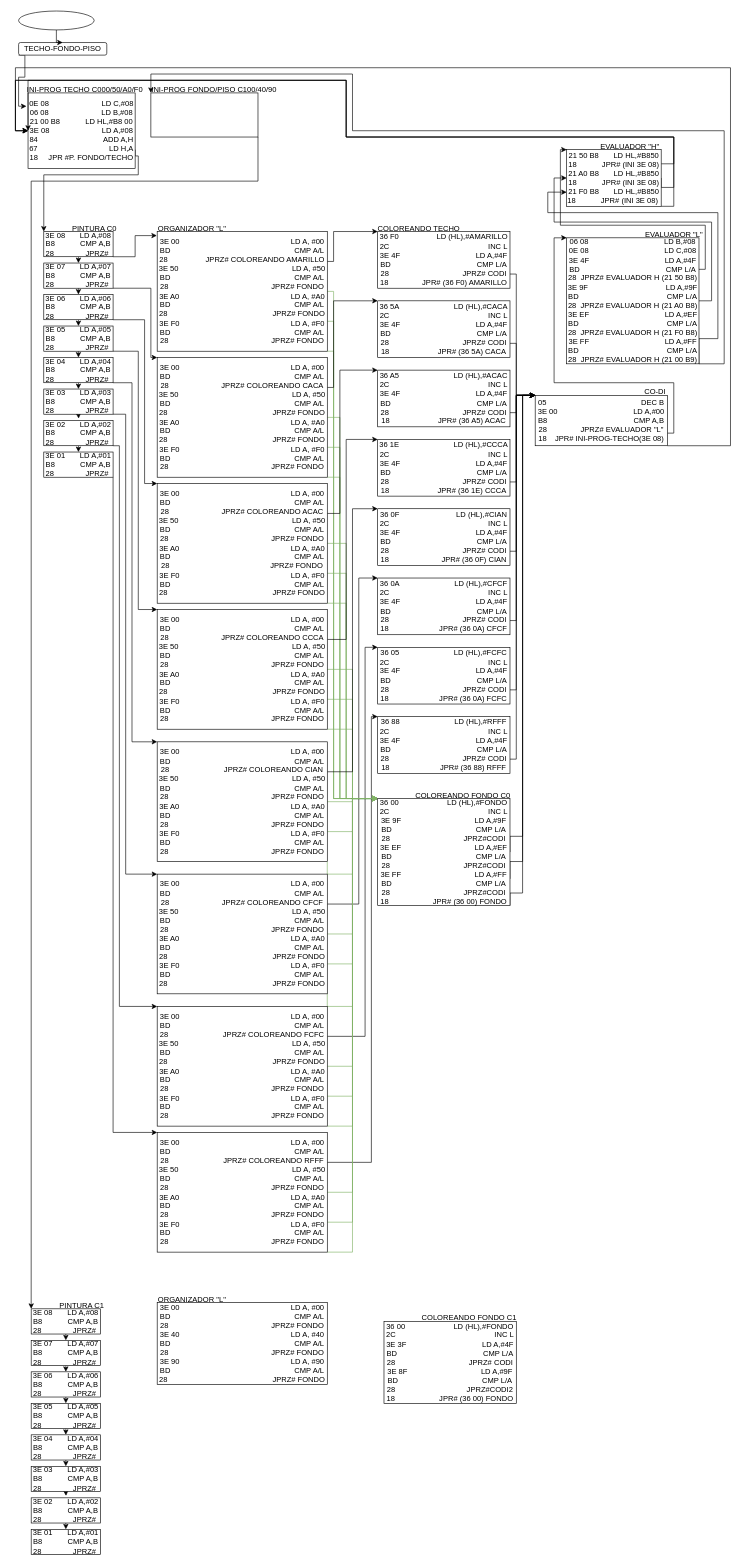
Some shapes in this 747 by 1566 pixel diagram are drawn without their labels. The centre of each missing label's shape, as x and y in pixels:
"21 00 B9 LD HL,#B9 00 3E 08 LD A,#08 84 ADD A,H 67 LD H,A 18 JPR #P. FONDO/PISO" goes at pixel 204 114.
"Inicio Reto 34" goes at pixel 56 20.
